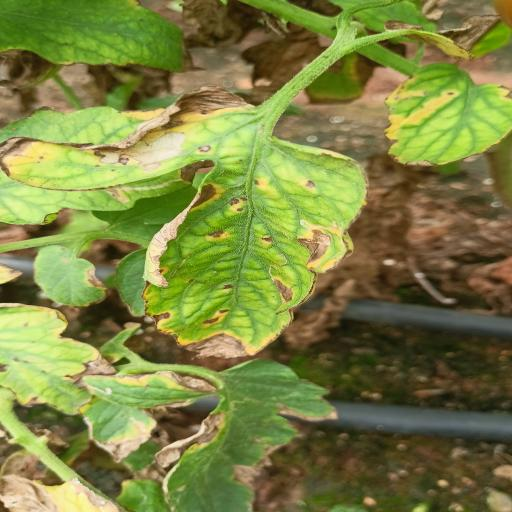Early Blight: (133, 158, 374, 364), (0, 84, 258, 194)
